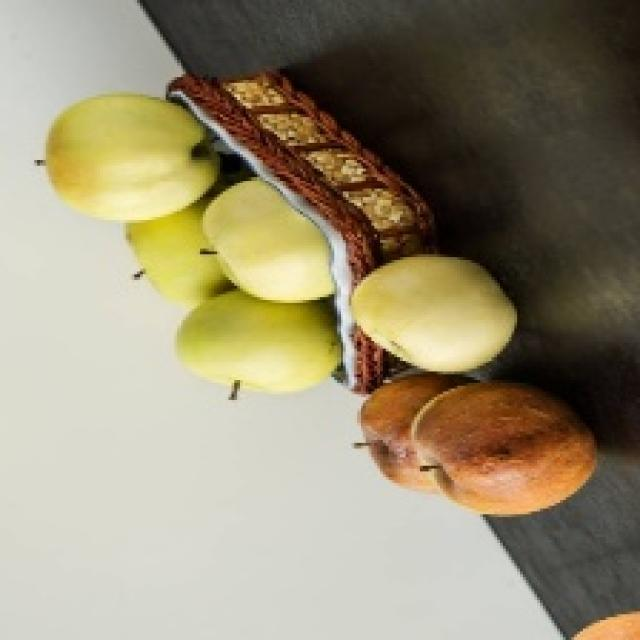50-_ripeness: (349, 252, 515, 373), (52, 93, 212, 216), (185, 302, 341, 392), (218, 188, 342, 299), (128, 219, 212, 298)
rotten_apple: (422, 386, 596, 512), (362, 377, 420, 492)
